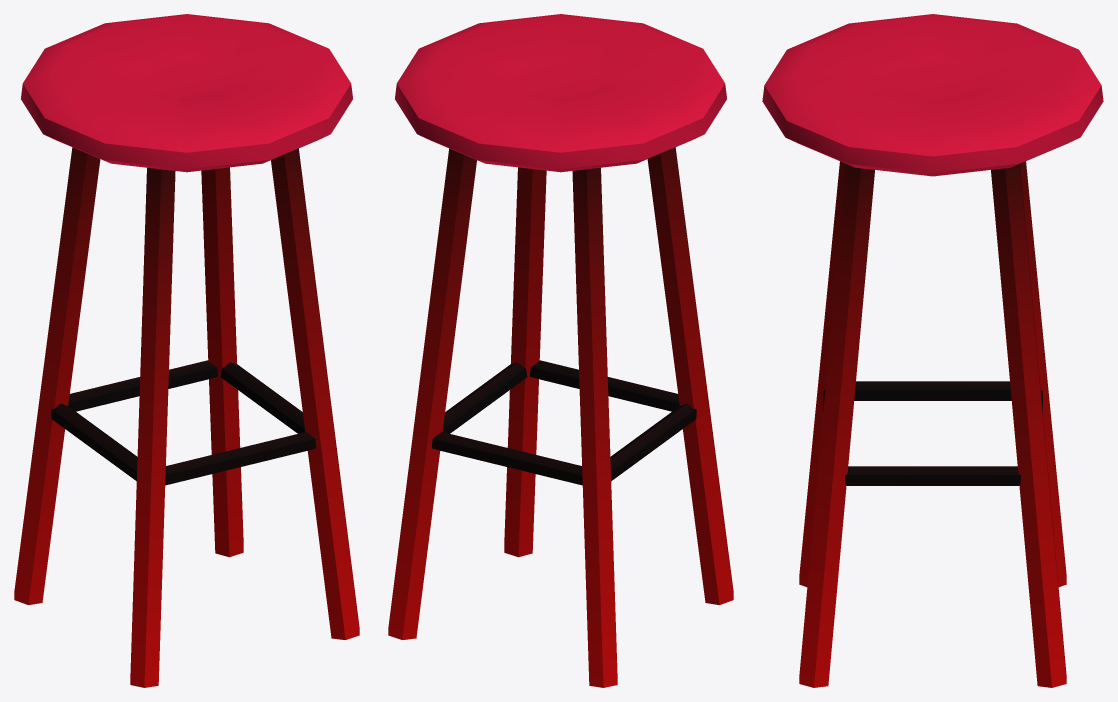
File: CI_Kitchen_Stool.glb
The picture shows the model from 3 angles, left to right: view 1: azimuth 30°, elevation 25°; view 2: azimuth 150°, elevation 25°; view 3: azimuth 270°, elevation 25°; orthographic projection. The views are drawn at different scales.
Visible parts, largest first — view 1: CI_Kitchen_Stool; view 2: CI_Kitchen_Stool; view 3: CI_Kitchen_Stool.
Boxes of the visible parts, x1,y1,x2,y2 form: CI_Kitchen_Stool: (14, 14, 359, 687); CI_Kitchen_Stool: (388, 14, 733, 687); CI_Kitchen_Stool: (762, 14, 1103, 687).
Bounding box in the file's own units: 0.344 × 0.622 × 0.344.
